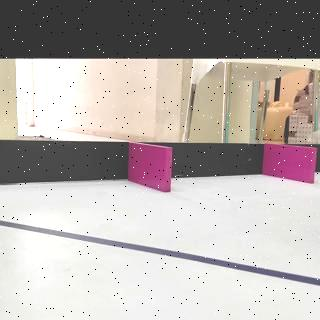xparking: (132, 146, 172, 192), (268, 144, 316, 182)
